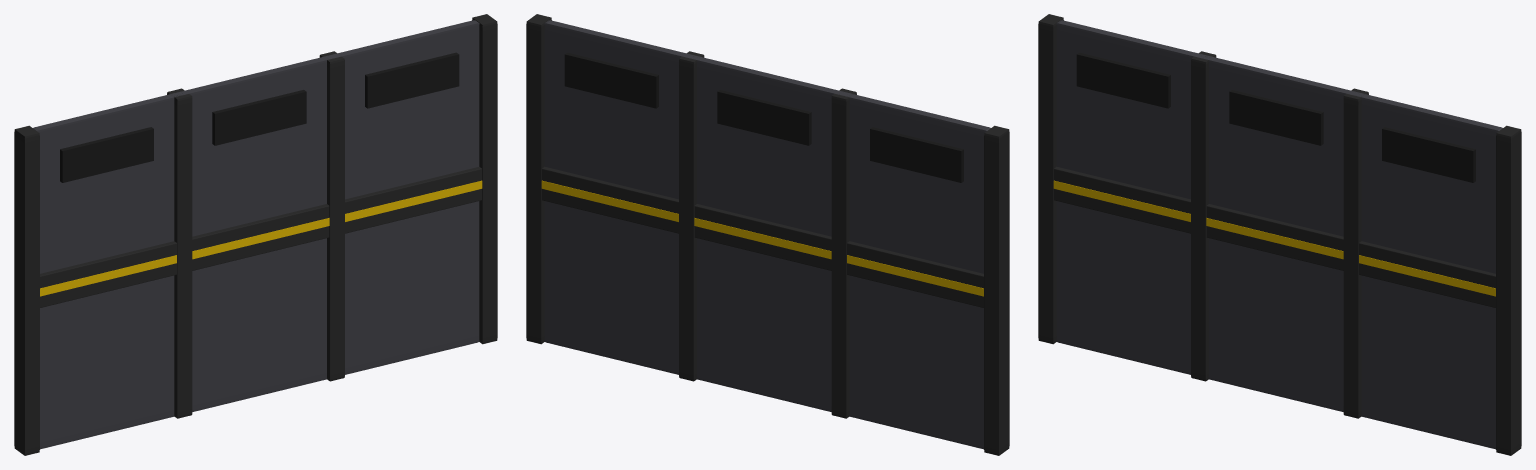
File: shelter_wall.glb
The picture shows the model from 3 angles, left to right: view 1: azimuth 30°, elevation 25°; view 2: azimuth 150°, elevation 25°; view 3: azimuth 330°, elevation 25°; orthographic projection.
Visible parts, largest first — view 1: Shelter_Wall; view 2: Shelter_Wall; view 3: Shelter_Wall.
Part boxes in pixels (left/top/right/bottom): Shelter_Wall: left=14, top=14, right=497, bottom=455; Shelter_Wall: left=526, top=14, right=1009, bottom=455; Shelter_Wall: left=1038, top=14, right=1521, bottom=455.
Bounding box in the file's own units: 6.2 × 4 × 0.24.
